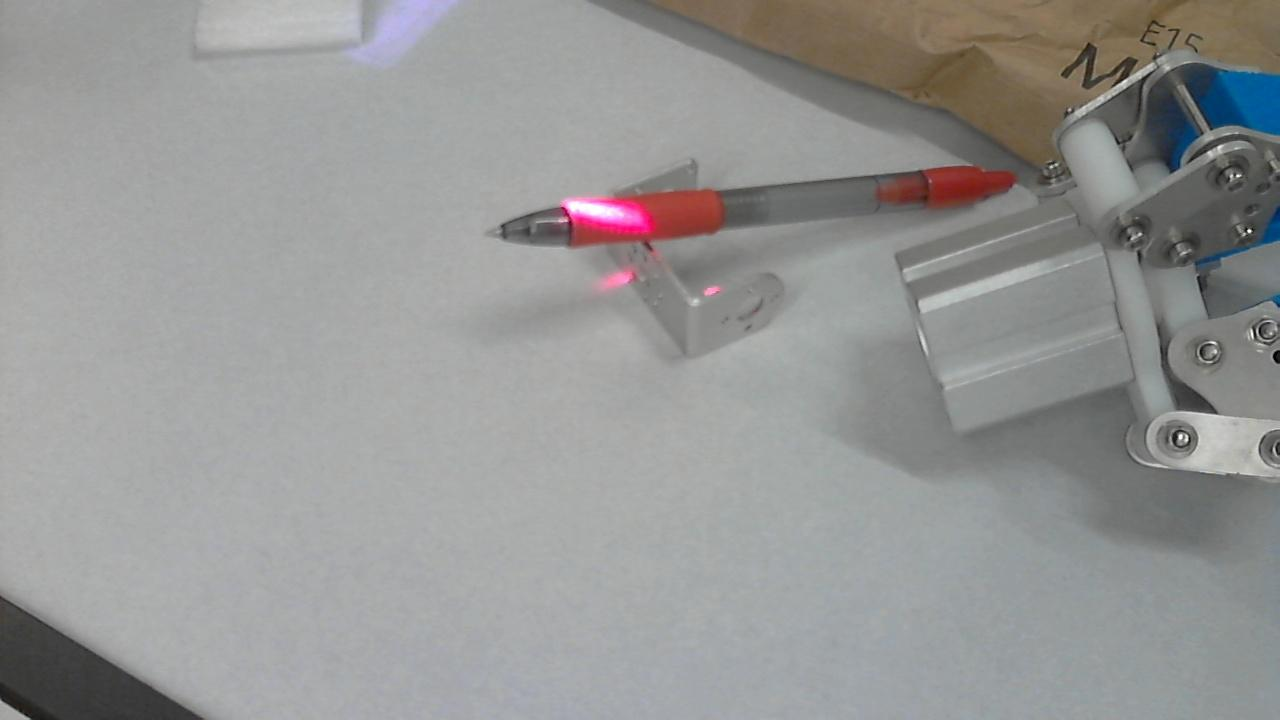Object ballpoint pen - Material rubber - Color red - Pdfname Tg2wygrqE5uZ: (547, 188, 659, 241)
